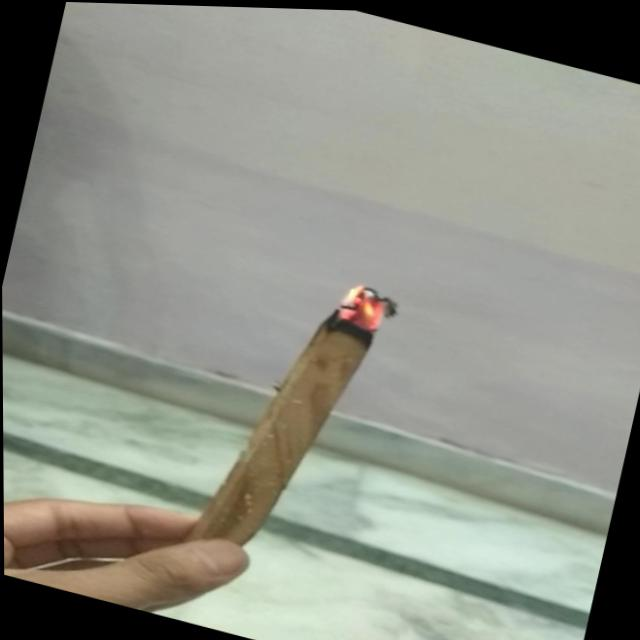fire: (314, 271, 416, 341)
